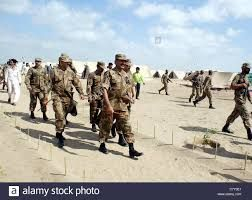uniform: (101, 57, 139, 158), (48, 55, 78, 137), (228, 54, 249, 141), (81, 58, 104, 126), (24, 56, 47, 112), (186, 66, 205, 109), (198, 66, 214, 112), (158, 66, 172, 100)
